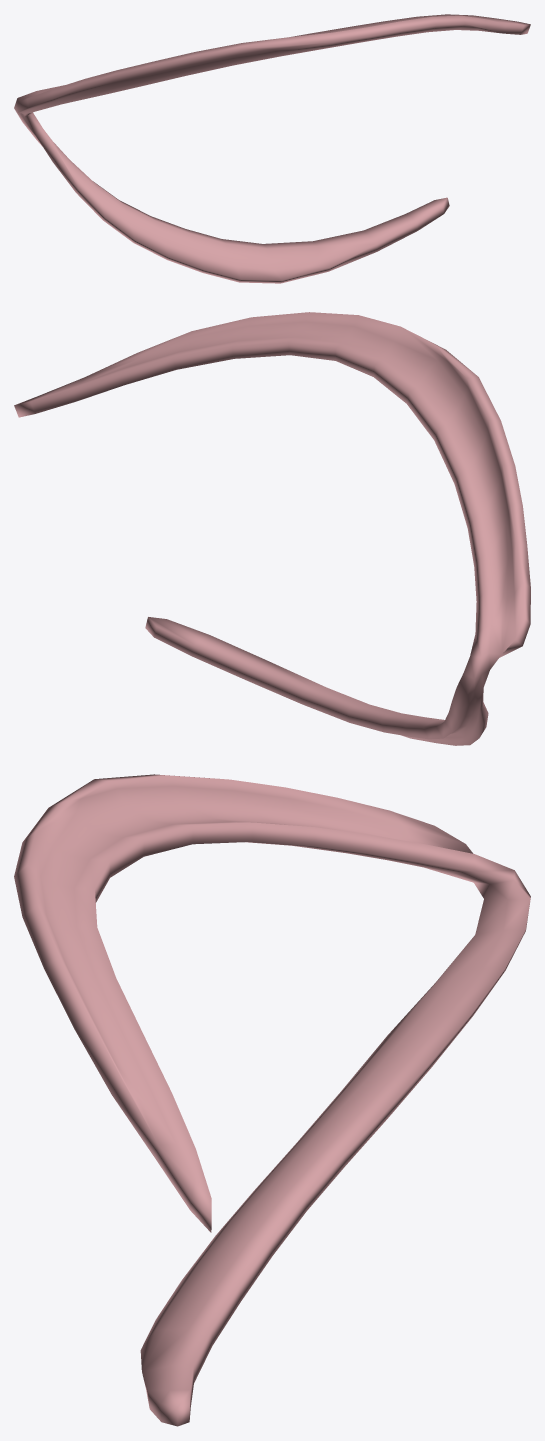
3 views of the same model, one above another, from view 1: azimuth 30°, elevation 25°; view 2: azimuth 150°, elevation 25°; view 3: azimuth 270°, elevation 25° (orthographic). The views are drawn at different scales.
Parts seen in each view (by area): view 1: ZA_7e1d539dd8510aa6; view 2: ZA_7e1d539dd8510aa6; view 3: ZA_7e1d539dd8510aa6.
Part boxes in pixels (box(x1,y1,x2,y2)): ZA_7e1d539dd8510aa6: box(14, 14, 530, 283); ZA_7e1d539dd8510aa6: box(14, 312, 530, 745); ZA_7e1d539dd8510aa6: box(14, 774, 530, 1426).
Bounding box in the file's own units: 0.0254 × 0.0148 × 0.0134.
